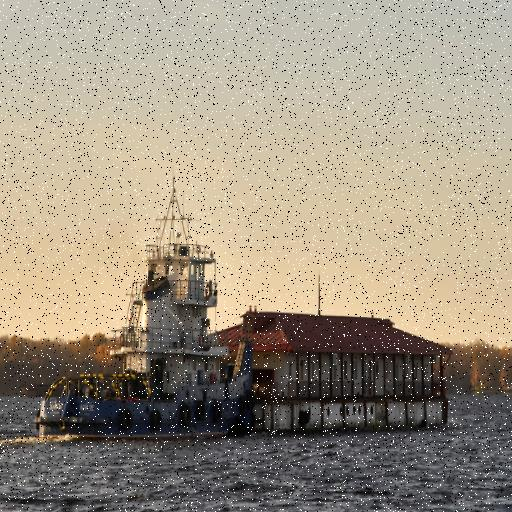tugboat: (31, 239, 265, 448)
